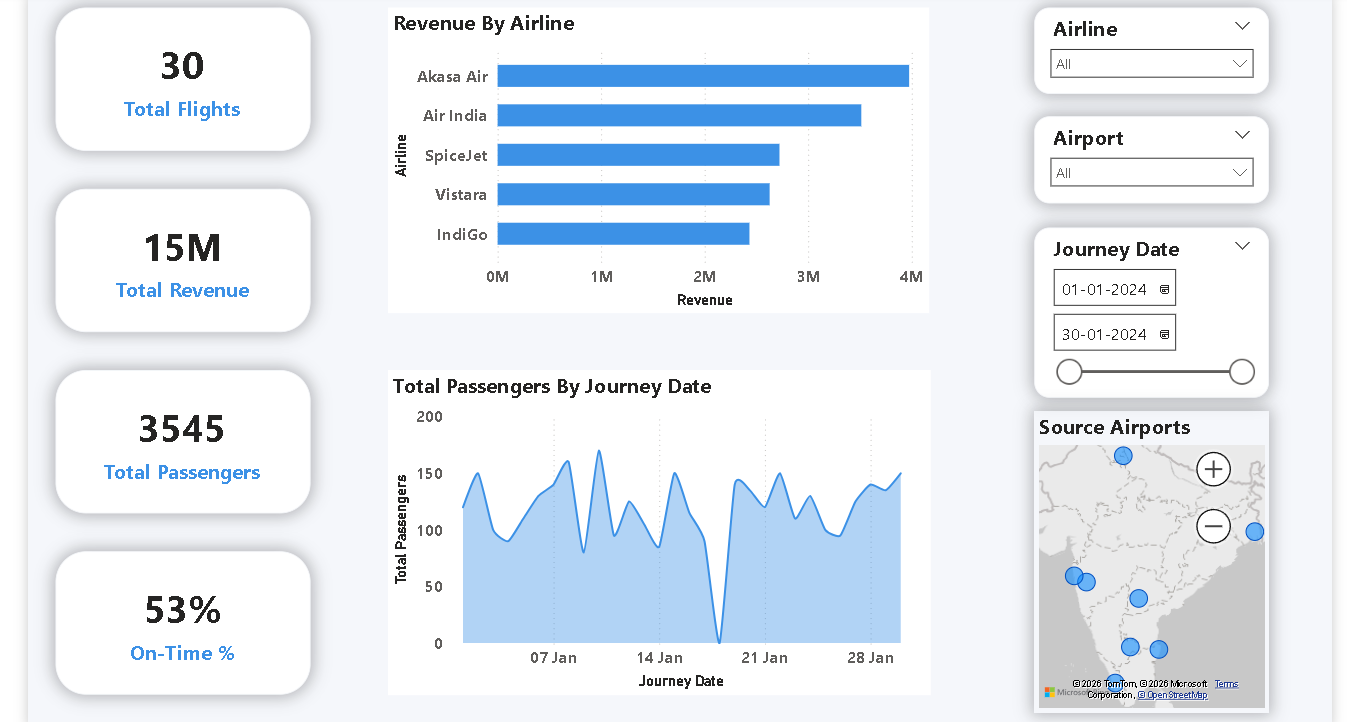

Layout of this report page (visuals, bound fields, positions):
{"tool":"powerbi","page":{"name":"Overview","canvas":[1280,720],"ordinal":0},"visuals":[{"type":"card","fields":{"Values":["airline_data_analysis.Total Flights"]},"box":[27.4,12.4,250,140.6],"z":0},{"type":"card","fields":{"Values":["airline_data_analysis.Total Passengers"]},"box":[27.4,368.2,250,140.6],"z":1000},{"type":"card","fields":{"Values":["airline_data_analysis.Total Revenue"]},"box":[27.4,190.3,250,140.6],"z":2000},{"type":"card","fields":{"Values":["airline_data_analysis.On-Time %"]},"box":[27.4,546.1,250,140.6],"z":3000},{"type":"lineChart","title":"Total Passengers By Journey Date","fields":{"Category":["airline_data_analysis.flight_date"],"Y":["airline_data_analysis.Total Passengers"]},"box":[353.4,368.1,532.5,319],"z":4000},{"type":"clusteredBarChart","title":"Revenue By Airline","fields":{"Category":["airline_data_analysis.airline_name"],"Y":["airline_data_analysis.Total Revenue"]},"box":[353.4,12.3,531.3,300],"z":5000},{"type":"slicer","fields":{"Values":["airline_data_analysis.airline_name"]},"box":[987.7,12.3,230.7,84.7],"z":6000},{"type":"slicer","fields":{"Values":["airline_data_analysis.source_airport"]},"box":[987.7,119,230.7,85.9],"z":7000},{"type":"slicer","fields":{"Values":["airline_data_analysis.flight_date"]},"box":[987.7,228.2,230.7,166.9],"z":8000},{"type":"map","title":"Source Airports","fields":{"Y":["Airports_Geolocation.Latitude"],"X":["Airports_Geolocation.Longitude"]},"box":[987.7,408.6,230.7,295.7],"z":9000}]}

Visuals, with their boxes on the page's 1280x720 design canvas (x1, y1, x2, y2). These are canvas units, not pixel positions in the 1347x722 screenshot, which may show the page scaled, cropped or inside an application window:
card - airline_data_analysis.Total Flights: (27, 12, 277, 153)
card - airline_data_analysis.Total Passengers: (27, 368, 277, 509)
card - airline_data_analysis.Total Revenue: (27, 190, 277, 331)
card - airline_data_analysis.On-Time %: (27, 546, 277, 687)
"Total Passengers By Journey Date" lineChart: (353, 368, 886, 687)
"Revenue By Airline" clusteredBarChart: (353, 12, 885, 312)
slicer - airline_data_analysis.airline_name: (988, 12, 1218, 97)
slicer - airline_data_analysis.source_airport: (988, 119, 1218, 205)
slicer - airline_data_analysis.flight_date: (988, 228, 1218, 395)
"Source Airports" map: (988, 409, 1218, 704)
